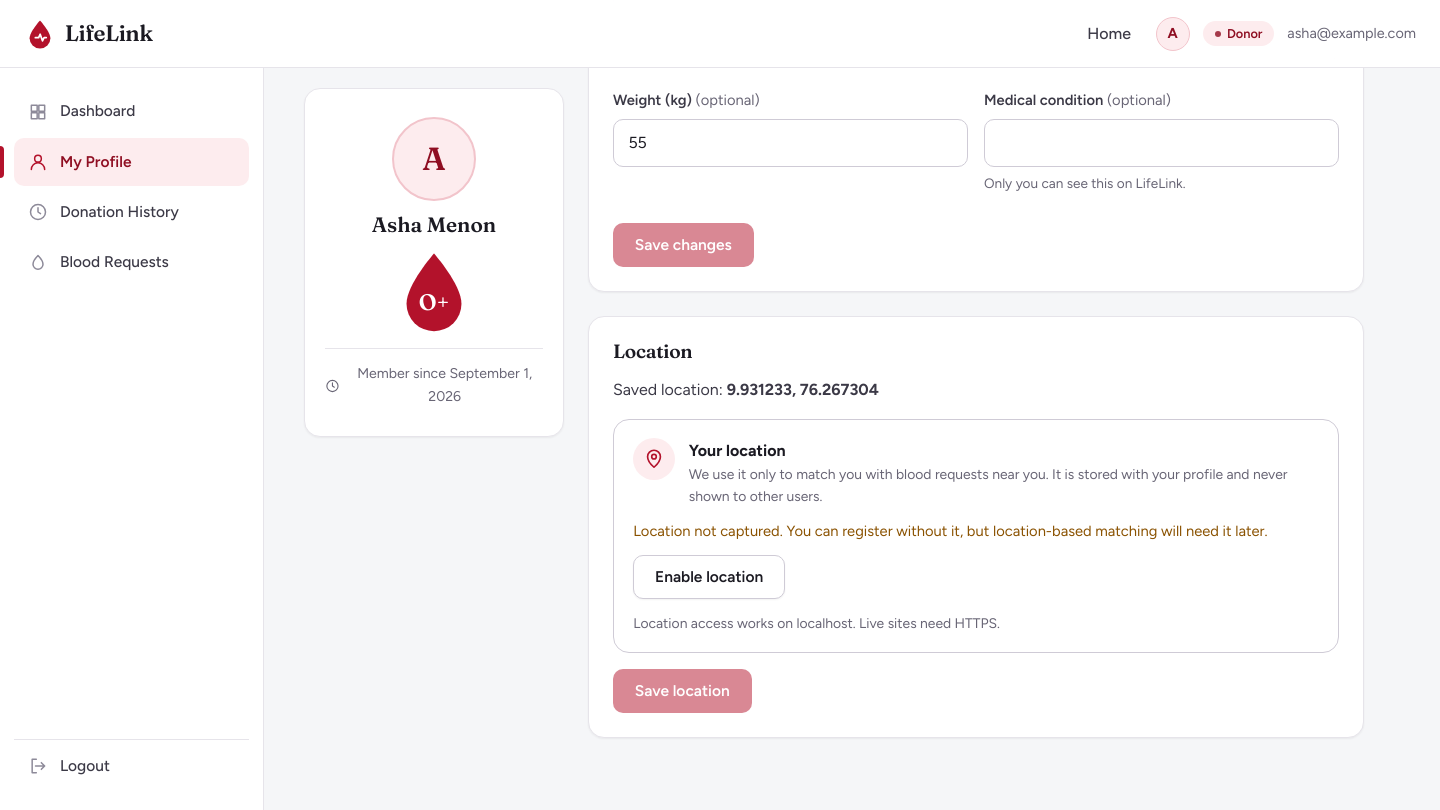
donor profile › handles denied location permission without crashing or saving
(page scrolled)
Click the button "Enable location". click: (709, 577)
box: [633,555,785,599]
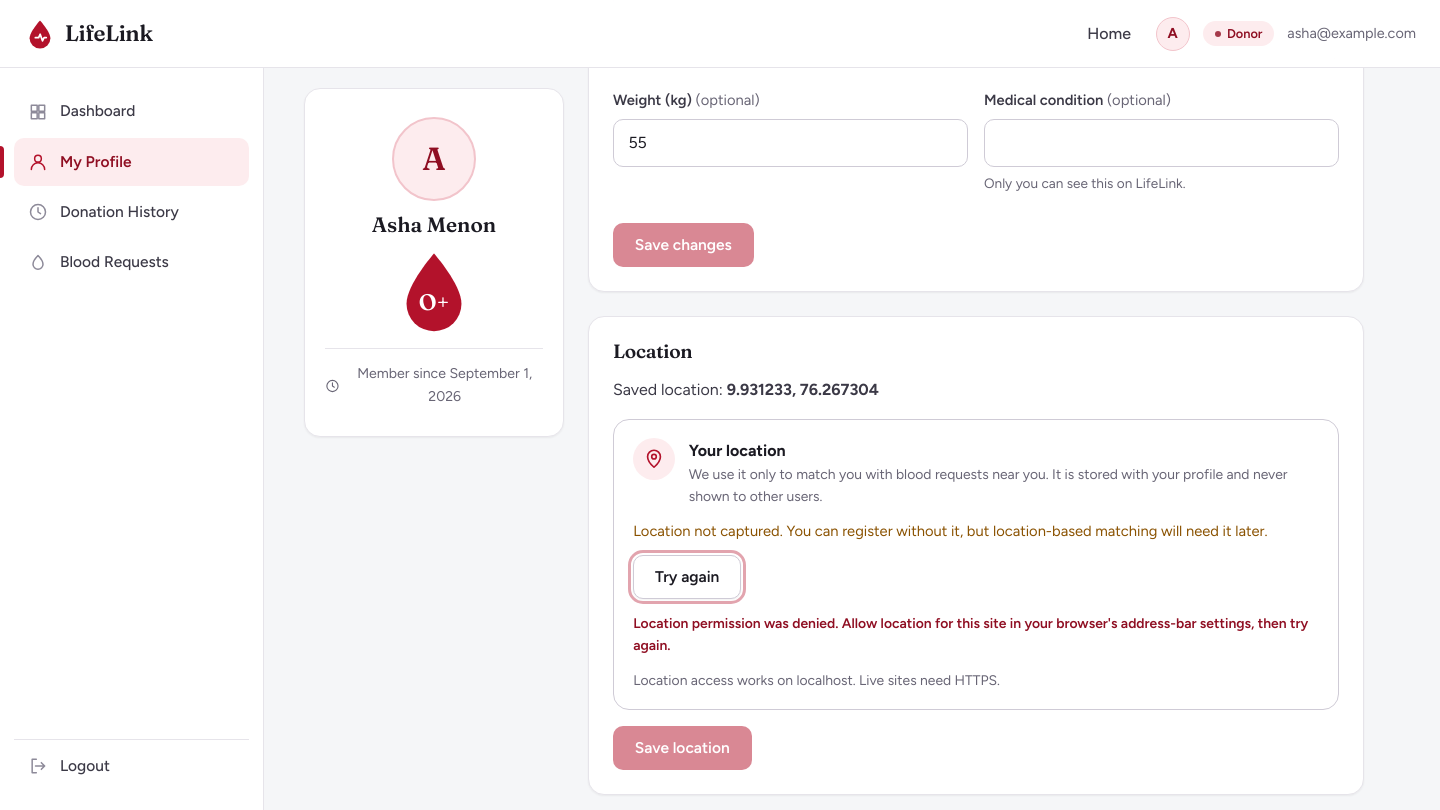
Expected: the button "Save location" is disabled, [613,726,752,770]
Expected: the message is shown, [633,612,1319,656]
Expected: the text "permission was denied" is shown, [633,615,1308,653]
